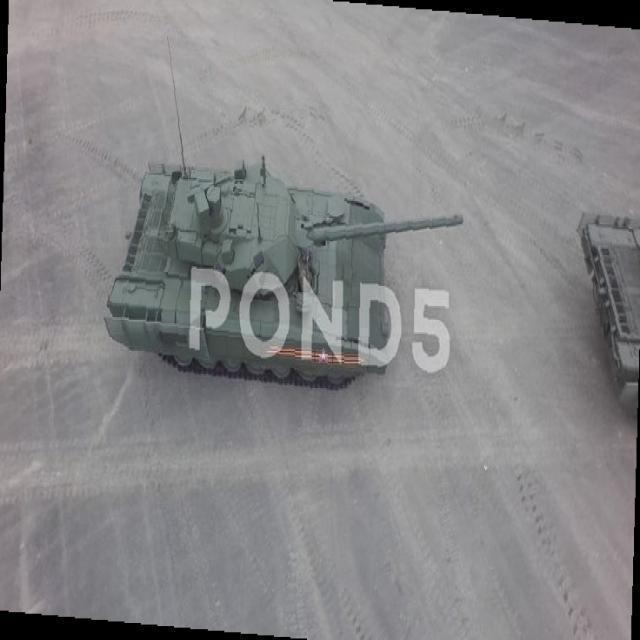MIL_MBT: (102, 158, 464, 394)
